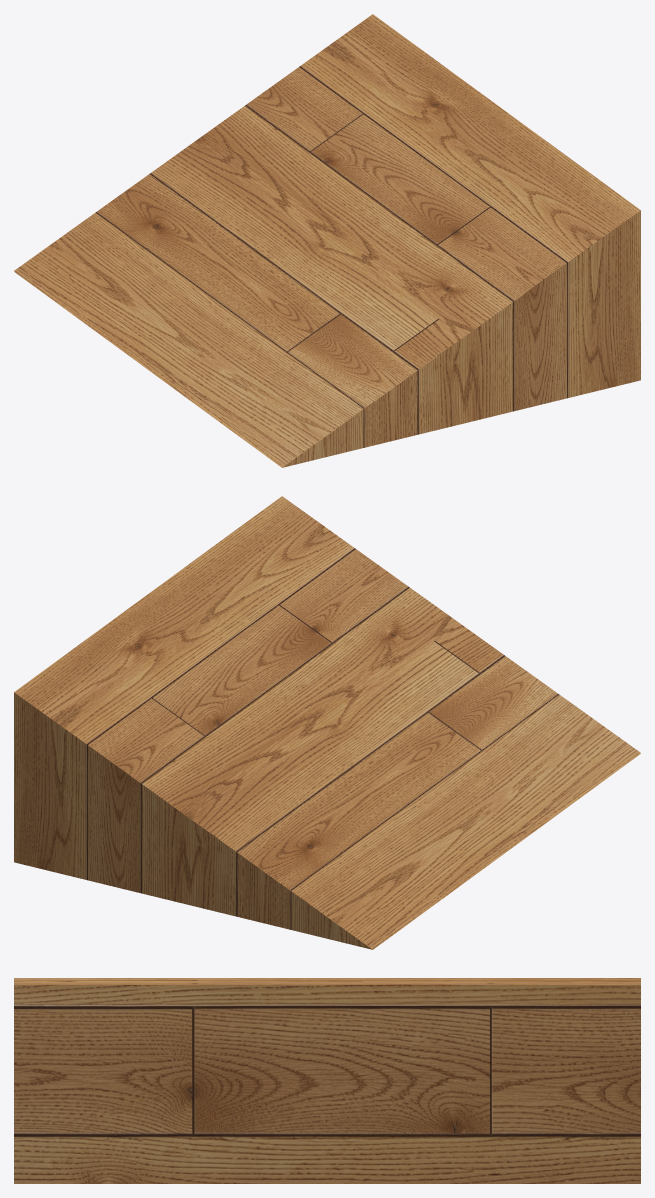
Rendered from oakrampmedium.glb.
3 renders of one model, top to bottom at view 1: azimuth 30°, elevation 25°; view 2: azimuth 150°, elevation 25°; view 3: azimuth 270°, elevation 25°, orthographic. The views are drawn at different scales.
Parts seen in each view (by area): view 1: Ramp_Oak; view 2: Ramp_Oak; view 3: Ramp_Oak.
Part boxes in pixels (bbox=[...]): Ramp_Oak: bbox=[14, 14, 640, 467]; Ramp_Oak: bbox=[14, 496, 640, 949]; Ramp_Oak: bbox=[14, 978, 640, 1183].
Size of the model in its own units: 0.773 by 0.35 by 1.
1 material, 1 textured.
